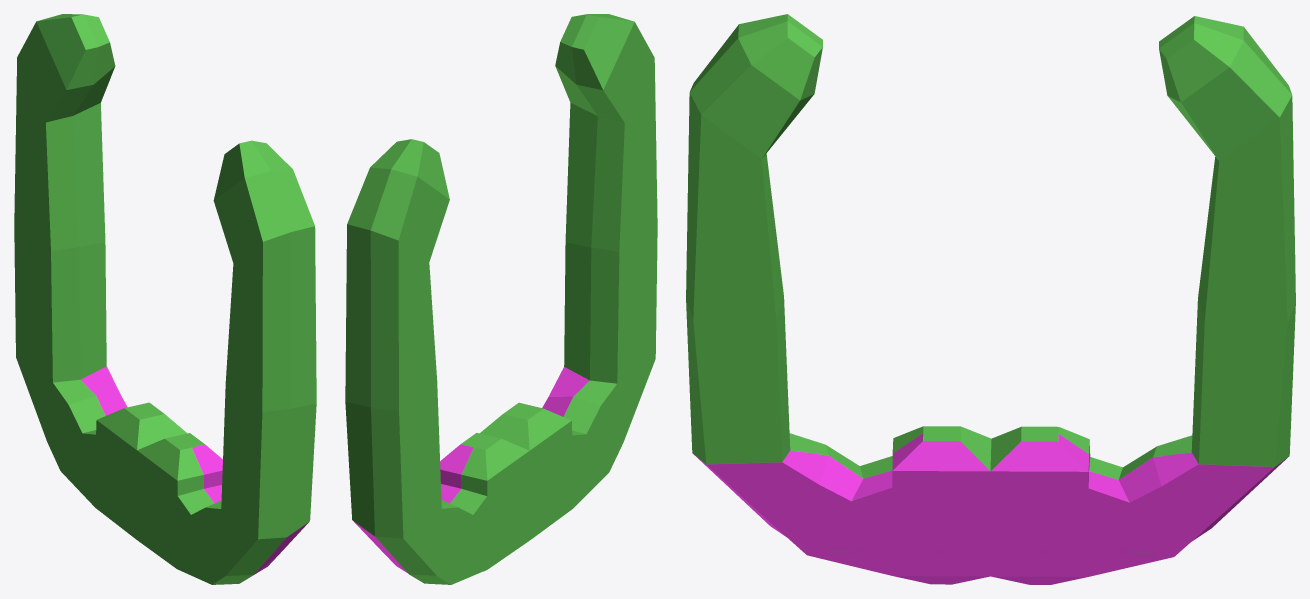
Rendered from GreenShip22.fbx.
3 renders of one model, left to right at view 1: azimuth 30°, elevation 25°; view 2: azimuth 150°, elevation 25°; view 3: azimuth 270°, elevation 25°, orthographic. The views are drawn at different scales.
Parts seen in each view (by area): view 1: Cube; view 2: Cube; view 3: Cube.
Boxes of the visible parts, x1,y1,x2,y2 form: Cube: (14,14,316,584); Cube: (345,14,657,584); Cube: (686,14,1295,584).
Size of the model in its own units: 88.07 by 632 by 622.
1 material, 1 textured.
